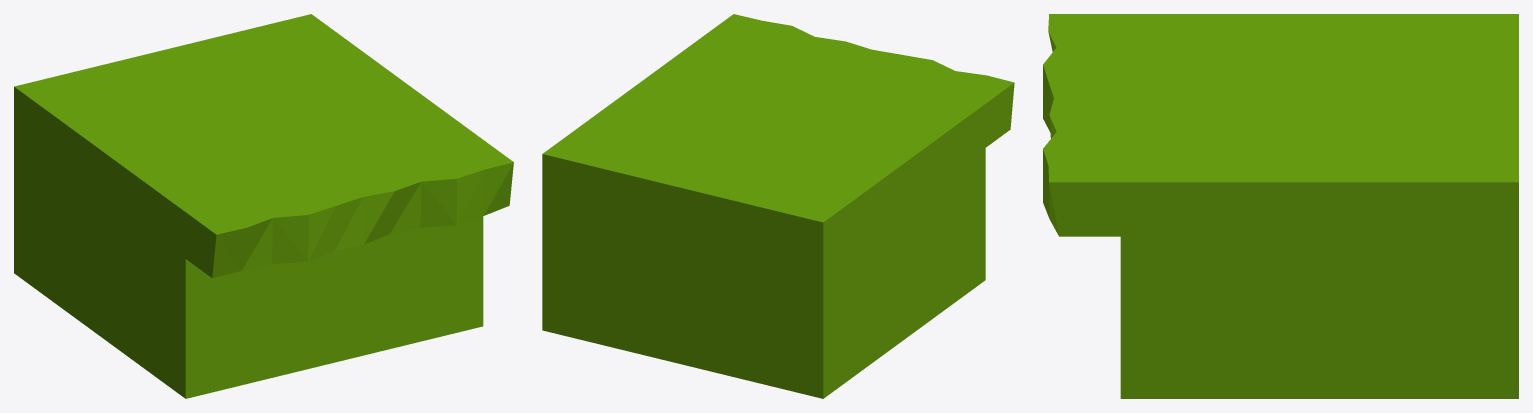
File: TileGround_36.fbx
3 renders of one model, left to right at view 1: azimuth 30°, elevation 25°; view 2: azimuth 150°, elevation 25°; view 3: azimuth 270°, elevation 25°, orthographic. The views are drawn at different scales.
Parts seen in each view (by area): view 1: TileGround_36; view 2: TileGround_36; view 3: TileGround_36.
Boxes of the visible parts, <box> form: TileGround_36: <box>14,14,513,398</box>; TileGround_36: <box>542,14,1014,398</box>; TileGround_36: <box>1043,14,1518,398</box>.
Size of the model in its own units: 500 by 300 by 597.
